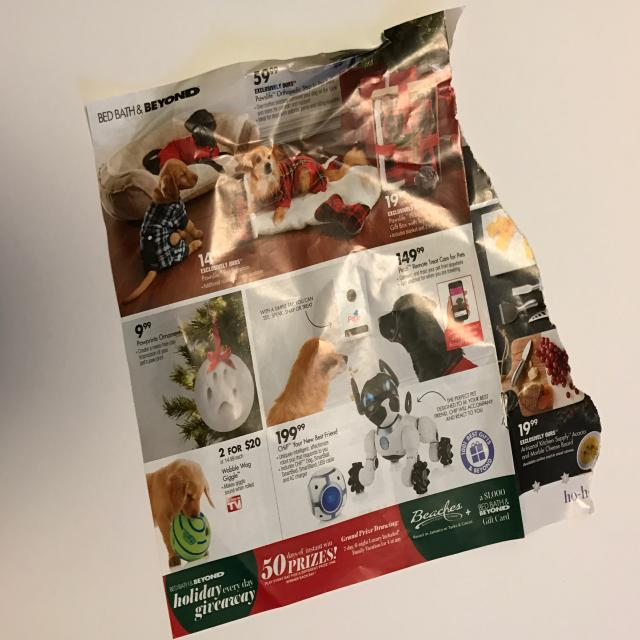paper: (5, 2, 624, 640)
